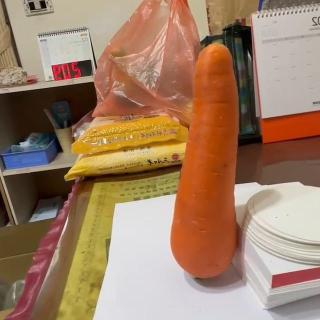carrot: (168, 42, 240, 280)
